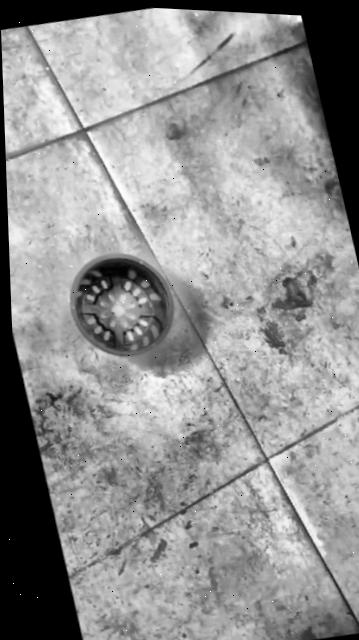pot: (57, 241, 183, 366)
